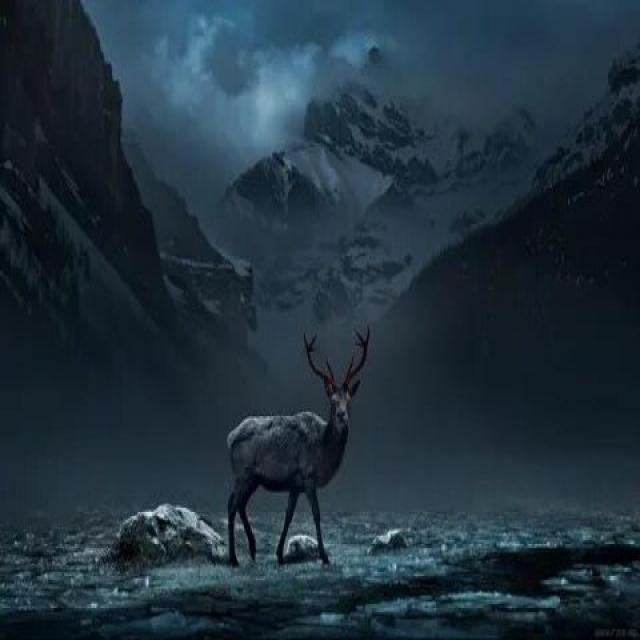deer: (202, 311, 414, 593)
